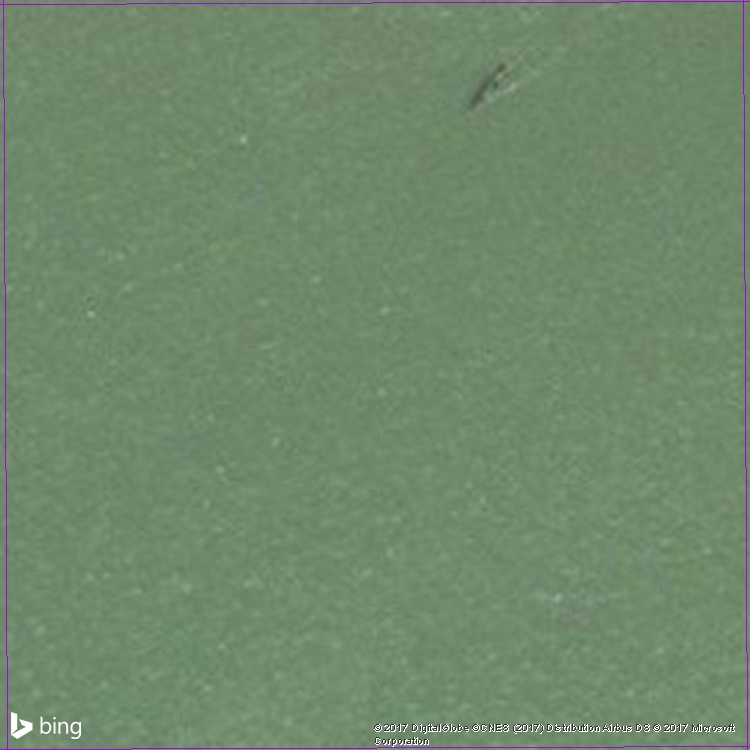boat: (467, 57, 520, 119)
